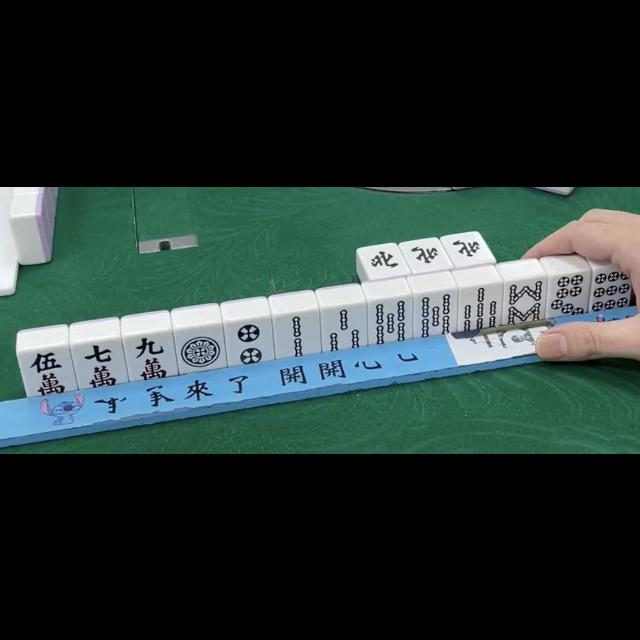b2: (276, 314, 318, 356)
b3: (322, 306, 366, 348)
b5: (368, 298, 412, 342), (414, 290, 456, 336)
b7: (459, 285, 501, 329)
b8: (504, 278, 546, 324)
c5: (22, 348, 72, 398)
c7: (76, 340, 124, 388)
c9: (128, 333, 172, 379)
d1: (176, 326, 224, 370)
d2: (226, 319, 272, 363)
d7: (548, 272, 588, 316)
d9: (590, 268, 634, 312)
wn: (362, 243, 403, 275), (405, 238, 445, 270), (448, 232, 488, 262)
